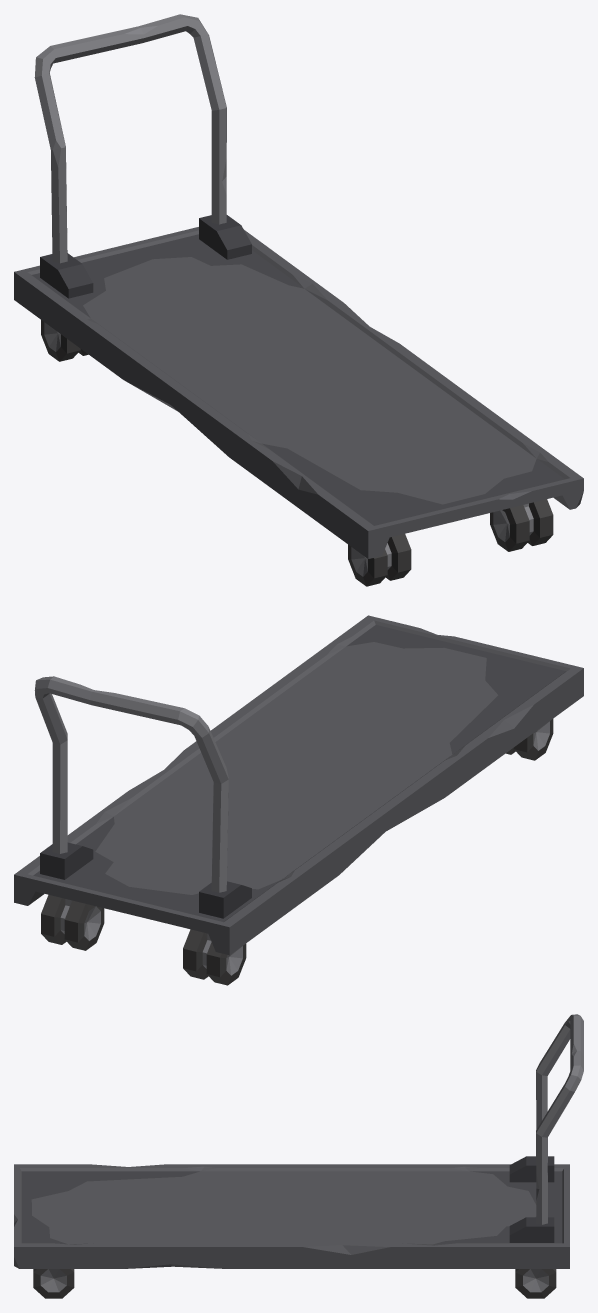
File: SM_Prop_Cart_01.glb
3 renders of one model, top to bottom at view 1: azimuth 30°, elevation 25°; view 2: azimuth 150°, elevation 25°; view 3: azimuth 270°, elevation 25°, orthographic. The views are drawn at different scales.
Visible parts, largest first — view 1: SM_Prop_Cart_01; view 2: SM_Prop_Cart_01; view 3: SM_Prop_Cart_01.
Part boxes in pixels (x1,y1,x2,y2): SM_Prop_Cart_01: [14, 14, 583, 586]; SM_Prop_Cart_01: [14, 615, 583, 985]; SM_Prop_Cart_01: [14, 1014, 583, 1298].
Bounding box in the file's own units: 0.8668 × 1.09 × 2.53.
Materials: 1 (1 with a texture image).
